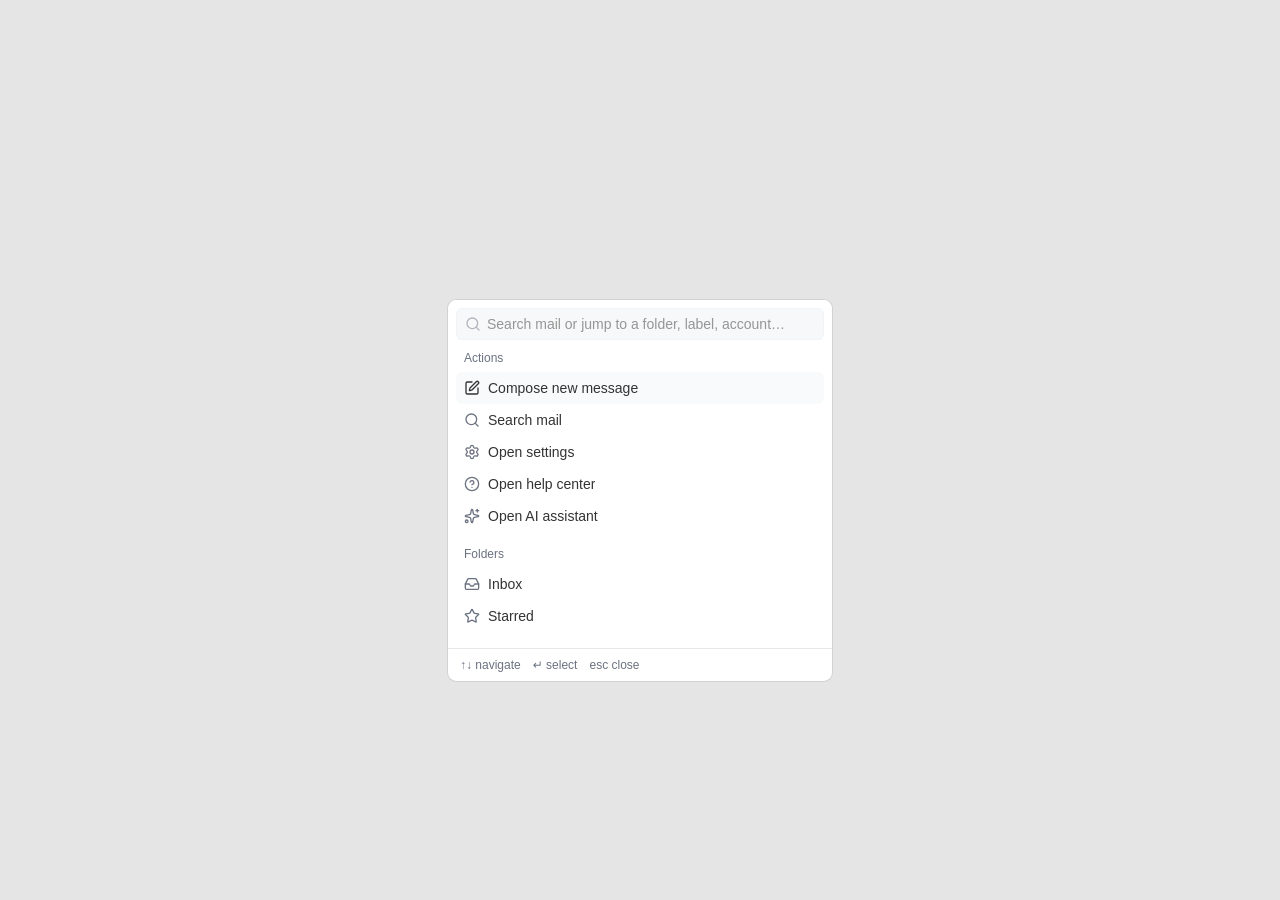
Test: command palette › shows the no-results state for a query nothing matches
Type "zzzzzz" into the dropdown.
click(652, 324); type("zzzzzz")  # box [481,314,823,334]
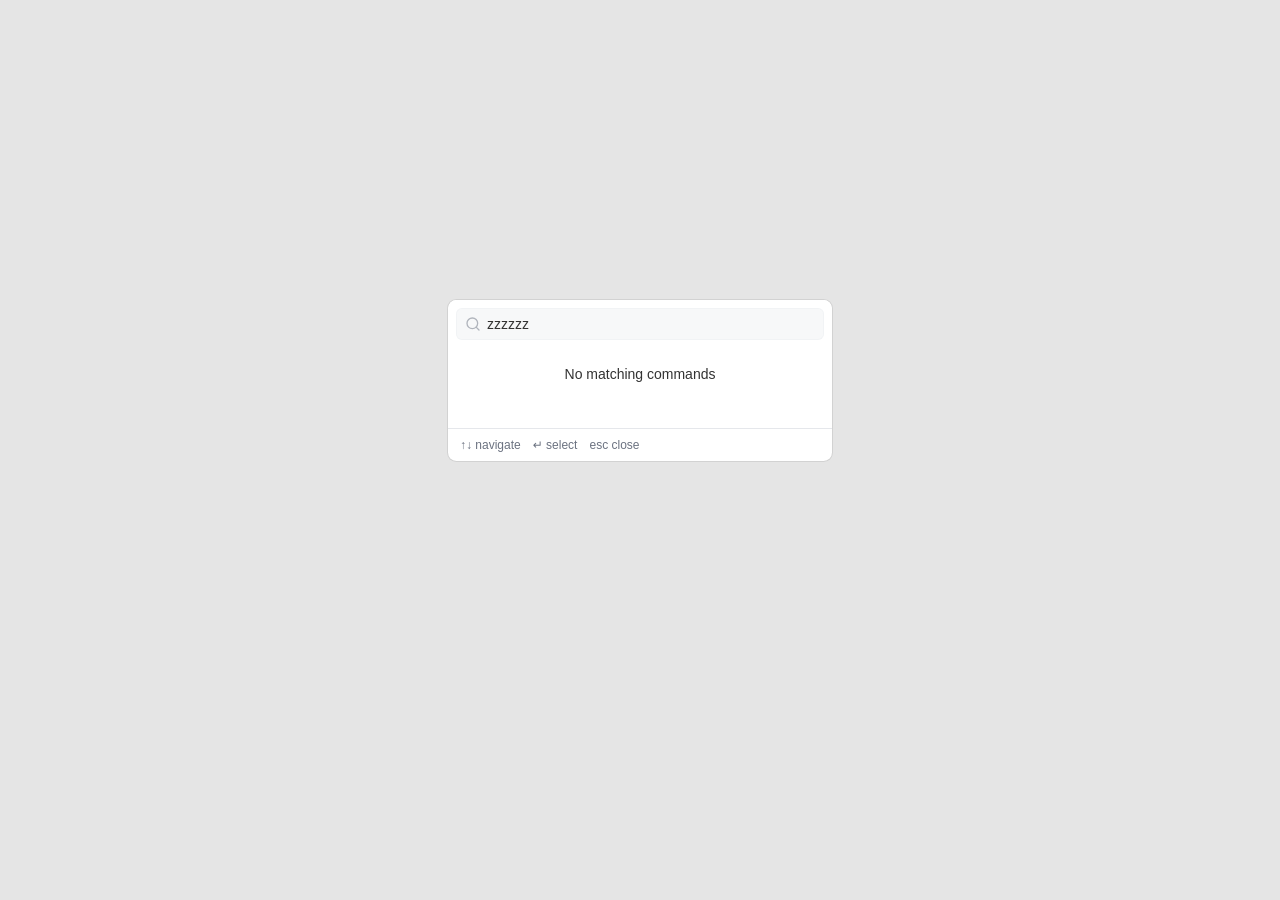
Now the text "No matching commands" is shown, box [564,366,716,382]
Now the option is gone
